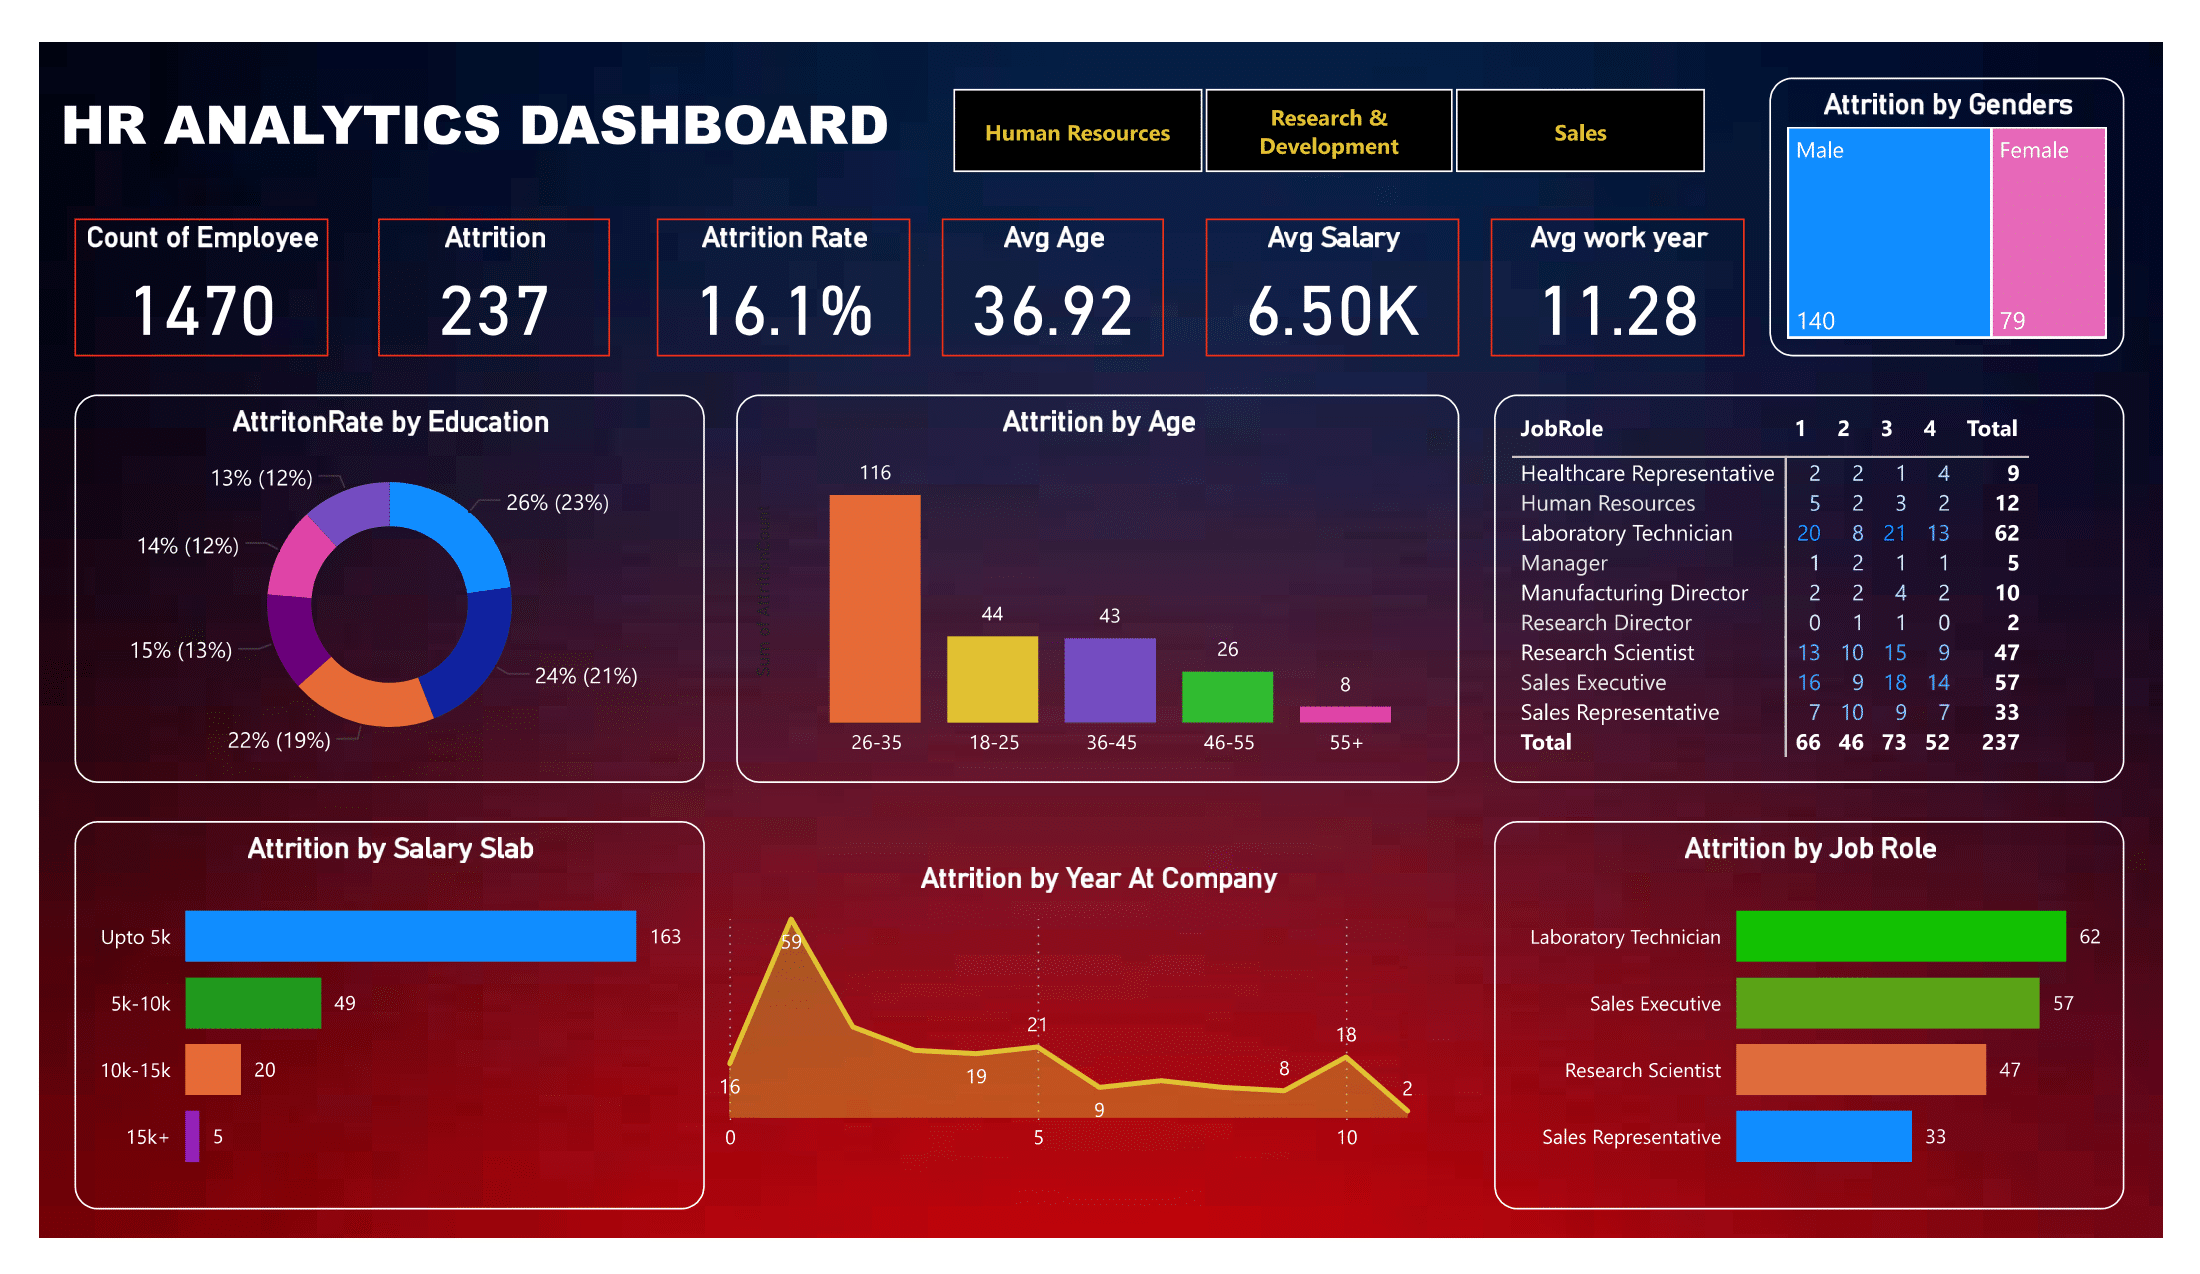

This screenshot's page, from the dashboard's own definition file:
{"tool":"powerbi","page":{"name":"Page 1","canvas":[1280,720],"ordinal":0},"visuals":[{"type":"card","title":"Count of Employee","fields":{"Values":["CountNonNull(HR_Analytics.EmpID)"]},"box":[20.8,105.8,153.1,83.2],"z":0},{"type":"card","title":"Attrition","fields":{"Values":["Sum(HR_Analytics.AttritionCount)"]},"box":[204.1,105.8,139.8,83.2],"z":1000},{"type":"card","title":"Attrition Rate","fields":{"Values":["HR_Analytics.AttritonRate"]},"box":[372.3,105.8,153.1,83.2],"z":2000},{"type":"card","title":"Avg Age","fields":{"Values":["Avg(HR_Analytics.Age)"]},"box":[544.3,105.8,134.2,83.2],"z":3000},{"type":"card","title":"Avg Salary","fields":{"Values":["Avg(HR_Analytics.MonthlyIncome)"]},"box":[703,105.8,153.1,83.2],"z":4000},{"type":"card","title":"Avg work year","fields":{"Values":["Avg(HR_Analytics.TotalWorkingYears)"]},"box":[875,105.8,153.1,83.2],"z":5000},{"type":"donutChart","title":"AttritonRate by Education","fields":{"Category":["HR_Analytics.EducationField"],"Y":["HR_Analytics.AttritonRate"]},"box":[20.8,211.7,379.8,234.3],"z":6000},{"type":"columnChart","title":"Attrition by Age","fields":{"Category":["HR_Analytics.AgeGroup"],"Y":["Sum(HR_Analytics.AttritionCount)"]},"box":[419.5,211.7,436.5,234.3],"z":7000},{"type":"pivotTable","fields":{"Rows":["HR_Analytics.JobRole"],"Columns":["HR_Analytics.JobSatisfaction"],"Values":["Sum(HR_Analytics.AttritionCount)"]},"box":[876.9,211.7,379.8,234.3],"z":8000},{"type":"clusteredBarChart","title":"Attrition by Salary Slab","fields":{"Category":["HR_Analytics.SalarySlab"],"Y":["Sum(HR_Analytics.AttritionCount)"]},"box":[20.8,468.7,379.8,234.3],"z":9000},{"type":"clusteredBarChart","title":"Attrition by Job Role","fields":{"Category":["HR_Analytics.JobRole"],"Y":["Sum(HR_Analytics.AttritionCount)"]},"box":[876.9,468.7,379.8,234.3],"z":10000},{"type":"areaChart","title":"Attrition by Year At Company","fields":{"Category":["HR_Analytics.YearsAtCompany"],"Y":["Sum(HR_Analytics.AttritionCount)"]},"box":[400.6,493.2,476.2,185.2],"z":11000},{"type":"treemap","title":"Attrition by Genders","fields":{"Group":["HR_Analytics.Gender"],"Values":["Sum(HR_Analytics.AttritionCount)"]},"box":[1043.2,20.8,213.5,168.2],"z":12000},{"type":"slicer","fields":{"Values":["HR_Analytics.Department"]},"box":[525.4,20.8,502.7,64.3],"z":13000},{"type":"textbox","box":[0,20.8,525.4,86.9],"z":14000}]}

Visuals, with their boxes in screenshot pixels (x1, y1, x2, y2), scaled from the page's 1280x720 canvas onto the 2200x1274 screenshot:
"Count of Employee" card: (36, 187, 299, 334)
"Attrition" card: (351, 187, 591, 334)
"Attrition Rate" card: (640, 187, 903, 334)
"Avg Age" card: (936, 187, 1166, 334)
"Avg Salary" card: (1208, 187, 1471, 334)
"Avg work year" card: (1504, 187, 1767, 334)
"AttritonRate by Education" donutChart: (36, 375, 689, 789)
"Attrition by Age" columnChart: (721, 375, 1471, 789)
pivotTable - HR_Analytics.JobRole x HR_Analytics.JobSatisfaction: (1507, 375, 2160, 789)
"Attrition by Salary Slab" clusteredBarChart: (36, 829, 689, 1244)
"Attrition by Job Role" clusteredBarChart: (1507, 829, 2160, 1244)
"Attrition by Year At Company" areaChart: (689, 873, 1507, 1200)
"Attrition by Genders" treemap: (1793, 37, 2160, 334)
slicer - HR_Analytics.Department: (903, 37, 1767, 151)
textbox: (0, 37, 903, 191)
